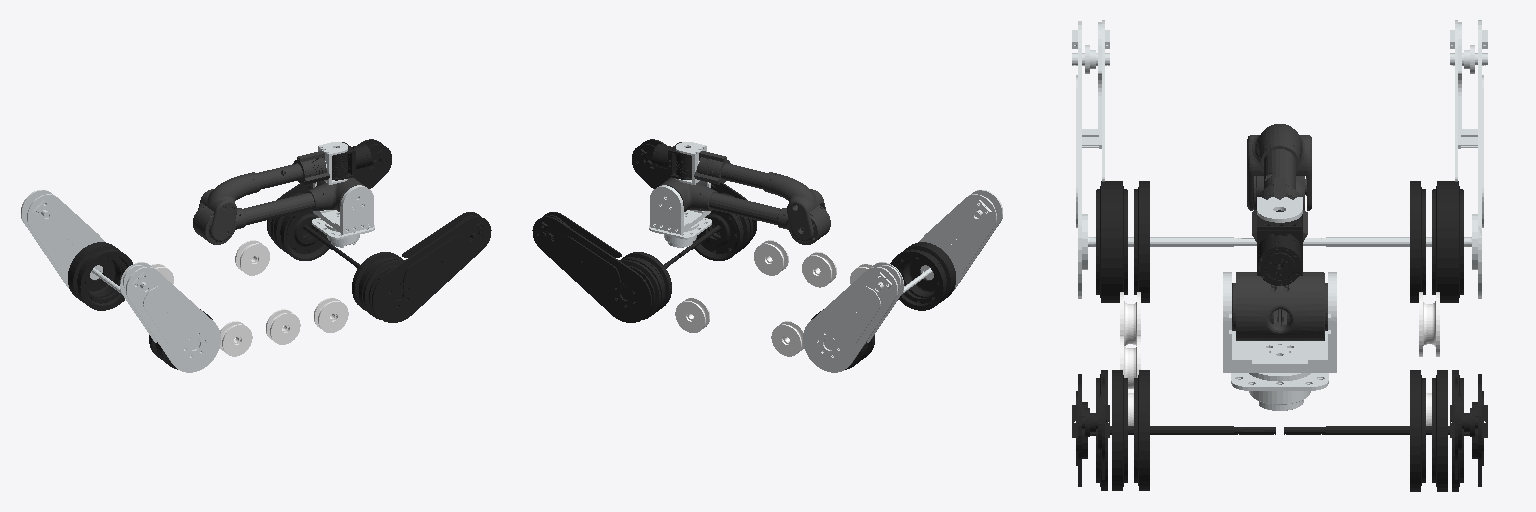
URDF robot description (DROK_P):
<?xml version="1.0" encoding="utf-8"?>
<!-- This URDF was automatically created by SolidWorks to URDF Exporter! Originally created by [author] ([email redacted]) 
     Commit Version: 1.6.0-4-g7f85cfe  Build Version: 1.6.7995.38578
     For more information, please see http://wiki.ros.org/sw_urdf_exporter -->
<robot
  name="DROK_P">
  <link
    name="base_link">
    <inertial>
      <origin
        xyz="-0.01 0.01 -0.02"
        rpy="0 0 0" />
      <mass
        value="32.22" />
      <inertia
        ixx="0.45"
        ixy="-0.01"
        ixz="-0.02"
        iyy="1.51"
        iyz="0"
        izz="1.86" />
    </inertial>
    <visual>
      <origin
        xyz="0 0 0"
        rpy="0 0 0" />
      <geometry>
        <mesh
          filename="package://fast_lio/meshes/base_link.STL" />
      </geometry>
      <material
        name="">
        <color
          rgba="0.89804 0.91765 0.92941 1" />
      </material>
    </visual>
    <collision>
      <origin
        xyz="0 0 0"
        rpy="0 0 0" />
      <geometry>
        <mesh
          filename="package://fast_lio/meshes/base_link.STL" />
      </geometry>
    </collision>
  </link>
  <link
    name="FR">
    <inertial>
      <origin
        xyz="0 0 0"
        rpy="0 0 0" />
      <mass
        value="0.34" />
      <inertia
        ixx="0"
        ixy="0"
        ixz="0"
        iyy="0"
        iyz="0"
        izz="0" />
    </inertial>
    <visual>
      <origin
        xyz="0 0 0"
        rpy="0 0 0" />
      <geometry>
        <mesh
          filename="package://fast_lio/meshes/FR.STL" />
      </geometry>
      <material
        name="">
        <color
          rgba="0.20392 0.20392 0.20392 1" />
      </material>
    </visual>
    <collision>
      <origin
        xyz="0 0 0"
        rpy="0 0 0" />
      <geometry>
        <mesh
          filename="package://fast_lio/meshes/FR.STL" />
      </geometry>
    </collision>
  </link>
  <joint
    name="FR_JOINT"
    type="continuous">
    <origin
      xyz="0.275 -0.1836 -0.03"
      rpy="0 0 0" />
    <parent
      link="base_link" />
    <child
      link="FR" />
    <axis
      xyz="0 -1 0" />
  </joint>
  <link
    name="FL">
    <inertial>
      <origin
        xyz="0 0 0"
        rpy="0 0 0" />
      <mass
        value="0.34" />
      <inertia
        ixx="0"
        ixy="0"
        ixz="0"
        iyy="0"
        iyz="0"
        izz="0" />
    </inertial>
    <visual>
      <origin
        xyz="0 0 0"
        rpy="0 0 0" />
      <geometry>
        <mesh
          filename="package://fast_lio/meshes/FL.STL" />
      </geometry>
      <material
        name="">
        <color
          rgba="0.20392 0.20392 0.20392 1" />
      </material>
    </visual>
    <collision>
      <origin
        xyz="0 0 0"
        rpy="0 0 0" />
      <geometry>
        <mesh
          filename="package://fast_lio/meshes/FL.STL" />
      </geometry>
    </collision>
  </link>
  <joint
    name="FL_JOINT"
    type="continuous">
    <origin
      xyz="0.275 0.1836 -0.03"
      rpy="0 0 0" />
    <parent
      link="base_link" />
    <child
      link="FL" />
    <axis
      xyz="0 1 0" />
  </joint>
  <link
    name="BR">
    <inertial>
      <origin
        xyz="0 -0.02 0"
        rpy="0 0 0" />
      <mass
        value="0.56" />
      <inertia
        ixx="0"
        ixy="0"
        ixz="0"
        iyy="0"
        iyz="0"
        izz="0" />
    </inertial>
    <visual>
      <origin
        xyz="0 0 0"
        rpy="0 0 0" />
      <geometry>
        <mesh
          filename="package://fast_lio/meshes/BR.STL" />
      </geometry>
      <material
        name="">
        <color
          rgba="0.20392 0.20392 0.20392 1" />
      </material>
    </visual>
    <collision>
      <origin
        xyz="0 0 0"
        rpy="0 0 0" />
      <geometry>
        <mesh
          filename="package://fast_lio/meshes/BR.STL" />
      </geometry>
    </collision>
  </link>
  <joint
    name="BR_JOINT"
    type="continuous">
    <origin
      xyz="-0.275 -0.1836 -0.03"
      rpy="0 0 0" />
    <parent
      link="base_link" />
    <child
      link="BR" />
    <axis
      xyz="0 -1 0" />
  </joint>
  <link
    name="BL">
    <inertial>
      <origin
        xyz="0 0.02 0"
        rpy="0 0 0" />
      <mass
        value="0.56" />
      <inertia
        ixx="0"
        ixy="0"
        ixz="0"
        iyy="0"
        iyz="0"
        izz="0" />
    </inertial>
    <visual>
      <origin
        xyz="0 0 0"
        rpy="0 0 0" />
      <geometry>
        <mesh
          filename="package://fast_lio/meshes/BL.STL" />
      </geometry>
      <material
        name="">
        <color
          rgba="0.20392 0.20392 0.20392 1" />
      </material>
    </visual>
    <collision>
      <origin
        xyz="0 0 0"
        rpy="0 0 0" />
      <geometry>
        <mesh
          filename="package://fast_lio/meshes/BL.STL" />
      </geometry>
    </collision>
  </link>
  <joint
    name="BL_JOINT"
    type="continuous">
    <origin
      xyz="-0.275 0.1836 -0.03"
      rpy="0 0 0" />
    <parent
      link="base_link" />
    <child
      link="BL" />
    <axis
      xyz="0 1 0" />
  </joint>
  <link
    name="FRF">
    <inertial>
      <origin
        xyz="0.06 0.01 0.03"
        rpy="0 0 0" />
      <mass
        value="1.16" />
      <inertia
        ixx="0.01"
        ixy="0"
        ixz="0"
        iyy="0.01"
        iyz="0"
        izz="0.01" />
    </inertial>
    <visual>
      <origin
        xyz="0 0 0"
        rpy="0 0 0" />
      <geometry>
        <mesh
          filename="package://fast_lio/meshes/FRF.STL" />
      </geometry>
      <material
        name="">
        <color
          rgba="0.20392 0.20392 0.20392 1" />
      </material>
    </visual>
    <collision>
      <origin
        xyz="0 0 0"
        rpy="0 0 0" />
      <geometry>
        <mesh
          filename="package://fast_lio/meshes/FRF.STL" />
      </geometry>
    </collision>
  </link>
  <joint
    name="FRF_JOINT"
    type="continuous">
    <origin
      xyz="0.275 -0.2306 -0.03"
      rpy="0 0 0" />
    <parent
      link="base_link" />
    <child
      link="FRF" />
    <axis
      xyz="0 -1 0" />
  </joint>
  <link
    name="FLF">
    <inertial>
      <origin
        xyz="0.06 -0.01 0.03"
        rpy="0 0 0" />
      <mass
        value="1.16" />
      <inertia
        ixx="0.01"
        ixy="0"
        ixz="0"
        iyy="0.01"
        iyz="0"
        izz="0.01" />
    </inertial>
    <visual>
      <origin
        xyz="0 0 0"
        rpy="0 0 0" />
      <geometry>
        <mesh
          filename="package://fast_lio/meshes/FLF.STL" />
      </geometry>
      <material
        name="">
        <color
          rgba="0.20392 0.20392 0.20392 1" />
      </material>
    </visual>
    <collision>
      <origin
        xyz="0 0 0"
        rpy="0 0 0" />
      <geometry>
        <mesh
          filename="package://fast_lio/meshes/FLF.STL" />
      </geometry>
    </collision>
  </link>
  <joint
    name="FLF_JOINT"
    type="revolute">
    <origin
      xyz="0.275 0.1836 -0.03"
      rpy="0 0 0" />
    <parent
      link="base_link" />
    <child
      link="FLF" />
    <axis
      xyz="0 1 0" />
    <limit
      lower="0"
      upper="0"
      effort="0"
      velocity="0" />
  </joint>
  <link
    name="BRF">
    <inertial>
      <origin
        xyz="-0.05 0.01 0.06"
        rpy="0 0 0" />
      <mass
        value="1.07" />
      <inertia
        ixx="0.01"
        ixy="0"
        ixz="0"
        iyy="0.01"
        iyz="0"
        izz="0.01" />
    </inertial>
    <visual>
      <origin
        xyz="0 0 0"
        rpy="0 0 0" />
      <geometry>
        <mesh
          filename="package://fast_lio/meshes/BRF.STL" />
      </geometry>
      <material
        name="">
        <color
          rgba="0.89804 0.91765 0.92941 1" />
      </material>
    </visual>
    <collision>
      <origin
        xyz="0 0 0"
        rpy="0 0 0" />
      <geometry>
        <mesh
          filename="package://fast_lio/meshes/BRF.STL" />
      </geometry>
    </collision>
  </link>
  <joint
    name="BRF_JOINT"
    type="revolute">
    <origin
      xyz="-0.275 -0.2306 -0.03"
      rpy="0 0 0" />
    <parent
      link="base_link" />
    <child
      link="BRF" />
    <axis
      xyz="0 -1 0" />
    <limit
      lower="0"
      upper="0"
      effort="0"
      velocity="0" />
  </joint>
  <link
    name="BLF">
    <inertial>
      <origin
        xyz="-0.05 -0.01 0.06"
        rpy="0 0 0" />
      <mass
        value="1.07" />
      <inertia
        ixx="0.01"
        ixy="0"
        ixz="0"
        iyy="0.01"
        iyz="0"
        izz="0.01" />
    </inertial>
    <visual>
      <origin
        xyz="0 0 0"
        rpy="0 0 0" />
      <geometry>
        <mesh
          filename="package://fast_lio/meshes/BLF.STL" />
      </geometry>
      <material
        name="">
        <color
          rgba="0.89804 0.91765 0.92941 1" />
      </material>
    </visual>
    <collision>
      <origin
        xyz="0 0 0"
        rpy="0 0 0" />
      <geometry>
        <mesh
          filename="package://fast_lio/meshes/BLF.STL" />
      </geometry>
    </collision>
  </link>
  <joint
    name="BLF_JOINT"
    type="revolute">
    <origin
      xyz="-0.275 0.2306 -0.03"
      rpy="0 0 0" />
    <parent
      link="base_link" />
    <child
      link="BLF" />
    <axis
      xyz="0 1 0" />
    <limit
      lower="0"
      upper="0"
      effort="0"
      velocity="0" />
  </joint>
  <link
    name="L1">
    <inertial>
      <origin
        xyz="0 0 0"
        rpy="0 0 0" />
      <mass
        value="0.08" />
      <inertia
        ixx="0"
        ixy="0"
        ixz="0"
        iyy="0"
        iyz="0"
        izz="0" />
    </inertial>
    <visual>
      <origin
        xyz="0 0 0"
        rpy="0 0 0" />
      <geometry>
        <mesh
          filename="package://fast_lio/meshes/L1.STL" />
      </geometry>
      <material
        name="">
        <color
          rgba="1 1 1 1" />
      </material>
    </visual>
    <collision>
      <origin
        xyz="0 0 0"
        rpy="0 0 0" />
      <geometry>
        <mesh
          filename="package://fast_lio/meshes/L1.STL" />
      </geometry>
    </collision>
  </link>
  <joint
    name="L1_JOINT"
    type="continuous">
    <origin
      xyz="0.13 0.184 -0.074"
      rpy="0 0 0" />
    <parent
      link="base_link" />
    <child
      link="L1" />
    <axis
      xyz="0 -1 0" />
  </joint>
  <link
    name="L2">
    <inertial>
      <origin
        xyz="0 0 0"
        rpy="0 0 0" />
      <mass
        value="0.08" />
      <inertia
        ixx="0"
        ixy="0"
        ixz="0"
        iyy="0"
        iyz="0"
        izz="0" />
    </inertial>
    <visual>
      <origin
        xyz="0 0 0"
        rpy="0 0 0" />
      <geometry>
        <mesh
          filename="package://fast_lio/meshes/L2.STL" />
      </geometry>
      <material
        name="">
        <color
          rgba="1 1 1 1" />
      </material>
    </visual>
    <collision>
      <origin
        xyz="0 0 0"
        rpy="0 0 0" />
      <geometry>
        <mesh
          filename="package://fast_lio/meshes/L2.STL" />
      </geometry>
    </collision>
  </link>
  <joint
    name="L2_JOINT"
    type="continuous">
    <origin
      xyz="0 0.184 -0.074"
      rpy="0 0 0" />
    <parent
      link="base_link" />
    <child
      link="L2" />
    <axis
      xyz="0 -1 0" />
  </joint>
  <link
    name="L3">
    <inertial>
      <origin
        xyz="0 0 0"
        rpy="0 0 0" />
      <mass
        value="0.08" />
      <inertia
        ixx="0"
        ixy="0"
        ixz="0"
        iyy="0"
        iyz="0"
        izz="0" />
    </inertial>
    <visual>
      <origin
        xyz="0 0 0"
        rpy="0 0 0" />
      <geometry>
        <mesh
          filename="package://fast_lio/meshes/L3.STL" />
      </geometry>
      <material
        name="">
        <color
          rgba="1 1 1 1" />
      </material>
    </visual>
    <collision>
      <origin
        xyz="0 0 0"
        rpy="0 0 0" />
      <geometry>
        <mesh
          filename="package://fast_lio/meshes/L3.STL" />
      </geometry>
    </collision>
  </link>
  <joint
    name="L3_JOINT"
    type="continuous">
    <origin
      xyz="-0.13 0.184 -0.074"
      rpy="0 0 0" />
    <parent
      link="base_link" />
    <child
      link="L3" />
    <axis
      xyz="0 -1 0" />
  </joint>
  <link
    name="R1">
    <inertial>
      <origin
        xyz="0 0 0"
        rpy="0 0 0" />
      <mass
        value="0.08" />
      <inertia
        ixx="0"
        ixy="0"
        ixz="0"
        iyy="0"
        iyz="0"
        izz="0" />
    </inertial>
    <visual>
      <origin
        xyz="0 0 0"
        rpy="0 0 0" />
      <geometry>
        <mesh
          filename="package://fast_lio/meshes/R1.STL" />
      </geometry>
      <material
        name="">
        <color
          rgba="1 1 1 1" />
      </material>
    </visual>
    <collision>
      <origin
        xyz="0 0 0"
        rpy="0 0 0" />
      <geometry>
        <mesh
          filename="package://fast_lio/meshes/R1.STL" />
      </geometry>
    </collision>
  </link>
  <joint
    name="R1_JOINT"
    type="continuous">
    <origin
      xyz="0.13 -0.184 -0.074"
      rpy="0 0 0" />
    <parent
      link="base_link" />
    <child
      link="R1" />
    <axis
      xyz="0 1 0" />
  </joint>
  <link
    name="R2">
    <inertial>
      <origin
        xyz="0 0 0"
        rpy="0 0 0" />
      <mass
        value="0.08" />
      <inertia
        ixx="0"
        ixy="0"
        ixz="0"
        iyy="0"
        iyz="0"
        izz="0" />
    </inertial>
    <visual>
      <origin
        xyz="0 0 0"
        rpy="0 0 0" />
      <geometry>
        <mesh
          filename="package://fast_lio/meshes/R2.STL" />
      </geometry>
      <material
        name="">
        <color
          rgba="1 1 1 1" />
      </material>
    </visual>
    <collision>
      <origin
        xyz="0 0 0"
        rpy="0 0 0" />
      <geometry>
        <mesh
          filename="package://fast_lio/meshes/R2.STL" />
      </geometry>
    </collision>
  </link>
  <joint
    name="R2_JOINT"
    type="continuous">
    <origin
      xyz="0 -0.184 -0.074"
      rpy="0 0 0" />
    <parent
      link="base_link" />
    <child
      link="R2" />
    <axis
      xyz="0 1 0" />
  </joint>
  <link
    name="R3">
    <inertial>
      <origin
        xyz="0 0 0"
        rpy="0 0 0" />
      <mass
        value="0.08" />
      <inertia
        ixx="0"
        ixy="0"
        ixz="0"
        iyy="0"
        iyz="0"
        izz="0" />
    </inertial>
    <visual>
      <origin
        xyz="0 0 0"
        rpy="0 0 0" />
      <geometry>
        <mesh
          filename="package://fast_lio/meshes/R3.STL" />
      </geometry>
      <material
        name="">
        <color
          rgba="1 1 1 1" />
      </material>
    </visual>
    <collision>
      <origin
        xyz="0 0 0"
        rpy="0 0 0" />
      <geometry>
        <mesh
          filename="package://fast_lio/meshes/R3.STL" />
      </geometry>
    </collision>
  </link>
  <joint
    name="R3_JOINT"
    type="continuous">
    <origin
      xyz="-0.13 -0.184 -0.074"
      rpy="0 0 0" />
    <parent
      link="base_link" />
    <child
      link="R3" />
    <axis
      xyz="0 1 0" />
  </joint>
  <link
    name="ARM BASE">
    <inertial>
      <origin
        xyz="0 0 -0.01"
        rpy="0 0 0" />
      <mass
        value="0.19" />
      <inertia
        ixx="0"
        ixy="0"
        ixz="0"
        iyy="0"
        iyz="0"
        izz="0" />
    </inertial>
    <visual>
      <origin
        xyz="0 0 0"
        rpy="0 0 0" />
      <geometry>
        <mesh
          filename="package://fast_lio/meshes/ARM BASE.STL" />
      </geometry>
      <material
        name="">
        <color
          rgba="0.89804 0.91765 0.92941 1" />
      </material>
    </visual>
    <collision>
      <origin
        xyz="0 0 0"
        rpy="0 0 0" />
      <geometry>
        <mesh
          filename="package://fast_lio/meshes/ARM BASE.STL" />
      </geometry>
    </collision>
  </link>
  <joint
    name="ARM BASE_JOINT"
    type="continuous">
    <origin
      xyz="0.27 0 0.066"
      rpy="0 0 0" />
    <parent
      link="base_link" />
    <child
      link="ARM BASE" />
    <axis
      xyz="0 -1 0" />
  </joint>
  <link
    name="ARM1">
    <inertial>
      <origin
        xyz="0 0 -0.06"
        rpy="0 0 0" />
      <mass
        value="1.37" />
      <inertia
        ixx="0"
        ixy="0"
        ixz="0"
        iyy="0"
        iyz="0"
        izz="0" />
    </inertial>
    <visual>
      <origin
        xyz="0 0 0"
        rpy="0 0 0" />
      <geometry>
        <mesh
          filename="package://fast_lio/meshes/ARM1.STL" />
      </geometry>
      <material
        name="">
        <color
          rgba="0.89804 0.91765 0.92941 1" />
      </material>
    </visual>
    <collision>
      <origin
        xyz="0 0 0"
        rpy="0 0 0" />
      <geometry>
        <mesh
          filename="package://fast_lio/meshes/ARM1.STL" />
      </geometry>
    </collision>
  </link>
  <joint
    name="ARM1_JOINT"
    type="revolute">
    <origin
      xyz="0 0 0.07"
      rpy="0 0 0" />
    <parent
      link="ARM BASE" />
    <child
      link="ARM1" />
    <axis
      xyz="0 1 0" />
    <limit
      lower="0"
      upper="0"
      effort="0"
      velocity="0" />
  </joint>
  <link
    name="ARM2">
    <inertial>
      <origin
        xyz="0.23 0 0"
        rpy="0 0 0" />
      <mass
        value="2.03" />
      <inertia
        ixx="0"
        ixy="0"
        ixz="0"
        iyy="0.05"
        iyz="0"
        izz="0.05" />
    </inertial>
    <visual>
      <origin
        xyz="0 0 0"
        rpy="0 0 0" />
      <geometry>
        <mesh
          filename="package://fast_lio/meshes/ARM2.STL" />
      </geometry>
      <material
        name="">
        <color
          rgba="0.29804 0.29804 0.29804 1" />
      </material>
    </visual>
    <collision>
      <origin
        xyz="0 0 0"
        rpy="0 0 0" />
      <geometry>
        <mesh
          filename="package://fast_lio/meshes/ARM2.STL" />
      </geometry>
    </collision>
  </link>
  <joint
    name="ARM2_JOINT"
    type="revolute">
    <origin
      xyz="-0.35 -0.00025005 0"
      rpy="0 0 0" />
    <parent
      link="ARM1" />
    <child
      link="ARM2" />
    <axis
      xyz="0 -1 0" />
    <limit
      lower="0"
      upper="0"
      effort="0"
      velocity="0" />
  </joint>
  <link
    name="ARM3">
    <inertial>
      <origin
        xyz="-0.18 0 -0.01"
        rpy="0 0 0" />
      <mass
        value="0.62" />
      <inertia
        ixx="0"
        ixy="0"
        ixz="0"
        iyy="0.01"
        iyz="0"
        izz="0.01" />
    </inertial>
    <visual>
      <origin
        xyz="0 0 0"
        rpy="0 0 0" />
      <geometry>
        <mesh
          filename="package://fast_lio/meshes/ARM3.STL" />
      </geometry>
      <material
        name="">
        <color
          rgba="0.29804 0.29804 0.29804 1" />
      </material>
    </visual>
    <collision>
      <origin
        xyz="0 0 0"
        rpy="0 0 0" />
      <geometry>
        <mesh
          filename="package://fast_lio/meshes/ARM3.STL" />
      </geometry>
    </collision>
  </link>
  <joint
    name="ARM3_JOINT"
    type="revolute">
    <origin
      xyz="0.29265 0 0.083467"
      rpy="0 0 0" />
    <parent
      link="ARM2" />
    <child
      link="ARM3" />
    <axis
      xyz="1 0 0" />
    <limit
      lower="0"
      upper="0"
      effort="0"
      velocity="0" />
  </joint>
  <link
    name="ARM4">
    <inertial>
      <origin
        xyz="-0.02 0 0"
        rpy="0 0 0" />
      <mass
        value="0.16" />
      <inertia
        ixx="0"
        ixy="0"
        ixz="0"
        iyy="0"
        iyz="0"
        izz="0" />
    </inertial>
    <visual>
      <origin
        xyz="0 0 0"
        rpy="0 0 0" />
      <geometry>
        <mesh
          filename="package://fast_lio/meshes/ARM4.STL" />
      </geometry>
      <material
        name="">
        <color
          rgba="0.89804 0.91765 0.92941 1" />
      </material>
    </visual>
    <collision>
      <origin
        xyz="0 0 0"
        rpy="0 0 0" />
      <geometry>
        <mesh
          filename="package://fast_lio/meshes/ARM4.STL" />
      </geometry>
    </collision>
  </link>
  <joint
    name="ARM4_JOINT"
    type="revolute">
    <origin
      xyz="0.038 0 0"
      rpy="0 0 0" />
    <parent
      link="ARM3" />
    <child
      link="ARM4" />
    <axis
      xyz="0 0 -1" />
    <limit
      lower="0"
      upper="0"
      effort="0"
      velocity="0" />
  </joint>
  <link
    name="ARM5">
    <inertial>
      <origin
        xyz="-0.06 0 0"
        rpy="0 0 0" />
      <mass
        value="0.53" />
      <inertia
        ixx="0"
        ixy="0"
        ixz="0"
        iyy="0"
        iyz="0"
        izz="0" />
    </inertial>
    <visual>
      <origin
        xyz="0 0 0"
        rpy="0 0 0" />
      <geometry>
        <mesh
          filename="package://fast_lio/meshes/ARM5.STL" />
      </geometry>
      <material
        name="">
        <color
          rgba="0.20392 0.20392 0.20392 1" />
      </material>
    </visual>
    <collision>
      <origin
        xyz="0 0 0"
        rpy="0 0 0" />
      <geometry>
        <mesh
          filename="package://fast_lio/meshes/ARM5.STL" />
      </geometry>
    </collision>
  </link>
  <joint
    name="ARM5_JOINT"
    type="revolute">
    <origin
      xyz="0.081 0 0"
      rpy="0 0 0" />
    <parent
      link="ARM4" />
    <child
      link="ARM5" />
    <axis
      xyz="-1 0 0" />
    <limit
      lower="0"
      upper="0"
      effort="0"
      velocity="0" />
  </joint>
</robot>

--- Facts derived from the render (not from the file) ---
Views: 3 orthographic renders of the robot side by side, from view 1: azimuth 30°, elevation 25°; view 2: azimuth 150°, elevation 25°; view 3: azimuth 270°, elevation 25°.
Model DROK_P with 21 links and 20 joints (8 revolute, 12 continuous), rooted at base_link, posed all joints at 0.
Links seen in each view (by area): view 1: FRF, BRF, BLF, ARM3, ARM2, BL, ARM1, FL, FLF, ARM5, L1, R1 (+3 smaller); view 2: FLF, BLF, BRF, ARM3, ARM2, BR, ARM1, FR, FRF, ARM5, R1, L1 (+3 smaller); view 3: ARM2, ARM1, BR, BL, BRF, BLF, ARM3, FLF, FRF, FL, FR, ARM5 (+5 smaller).
Boxes of the visible links, left/top/right/bottom form: FRF: left=345, top=212, right=491, bottom=322; BRF: left=120, top=262, right=220, bottom=372; BLF: left=21, top=190, right=121, bottom=293; ARM3: left=198, top=151, right=329, bottom=241; ARM2: left=193, top=177, right=363, bottom=244; BL: left=68, top=242, right=132, bottom=310; ARM1: left=313, top=182, right=373, bottom=247; FL: left=274, top=210, right=330, bottom=260; FLF: left=267, top=139, right=391, bottom=257; ARM5: left=332, top=142, right=371, bottom=180; L1: left=235, top=240, right=269, bottom=275; R1: left=314, top=298, right=348, bottom=332; FLF: left=532, top=212, right=678, bottom=322; BLF: left=803, top=262, right=903, bottom=372; BRF: left=902, top=190, right=1002, bottom=293; ARM3: left=694, top=151, right=825, bottom=241; ARM2: left=660, top=177, right=830, bottom=244; BR: left=890, top=242, right=955, bottom=310; ARM1: left=650, top=182, right=710, bottom=247; FR: left=693, top=210, right=749, bottom=260; FRF: left=632, top=139, right=756, bottom=257; ARM5: left=652, top=142, right=691, bottom=179; R1: left=754, top=240, right=788, bottom=275; L1: left=675, top=298, right=709, bottom=332; ARM2: left=1232, top=176, right=1327, bottom=340; ARM1: left=1223, top=272, right=1336, bottom=410; BR: left=1096, top=181, right=1149, bottom=302; BL: left=1410, top=181, right=1463, bottom=302; BRF: left=1072, top=20, right=1256, bottom=298; BLF: left=1303, top=20, right=1487, bottom=298; ARM3: left=1247, top=124, right=1311, bottom=241; FLF: left=1284, top=370, right=1487, bottom=491; FRF: left=1072, top=370, right=1275, bottom=490; FL: left=1410, top=370, right=1447, bottom=491; FR: left=1112, top=370, right=1149, bottom=490; ARM5: left=1257, top=210, right=1302, bottom=285.
Bounding box of the posed robot: 0.9878 × 0.512 × 0.3735 m (x, y, z).
19 mesh visuals loaded from 21 distinct referenced files (19 binary STL); not drawn: 2 (reference not matched to a file when rendering).
